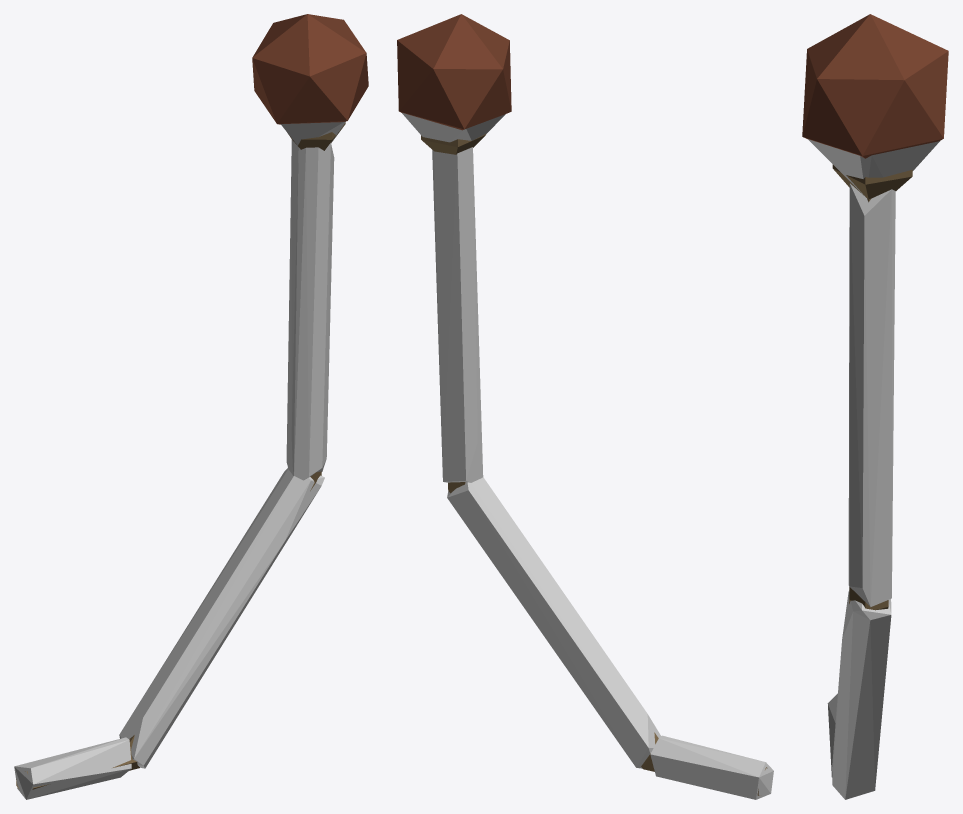
The model's file is SM_Bld_Planetarium_01_ring01_Planet_02_1.fbx.
3 views of the same model, side by side, from view 1: azimuth 30°, elevation 25°; view 2: azimuth 150°, elevation 25°; view 3: azimuth 270°, elevation 25° (orthographic). The views are drawn at different scales.
Parts seen in each view (by area): view 1: SM_Bld_Planetarium_01_ring01_Planet_02_1_ConvexHulls, SM_Bld_Planetarium_01_ring01_Planet_02_1; view 2: SM_Bld_Planetarium_01_ring01_Planet_02_1_ConvexHulls, SM_Bld_Planetarium_01_ring01_Planet_02_1; view 3: SM_Bld_Planetarium_01_ring01_Planet_02_1_ConvexHulls, SM_Bld_Planetarium_01_ring01_Planet_02_1.
Part boxes in pixels (bbox=[...]): SM_Bld_Planetarium_01_ring01_Planet_02_1_ConvexHulls: bbox=[14, 121, 345, 799]; SM_Bld_Planetarium_01_ring01_Planet_02_1: bbox=[16, 14, 368, 789]; SM_Bld_Planetarium_01_ring01_Planet_02_1_ConvexHulls: bbox=[402, 113, 773, 799]; SM_Bld_Planetarium_01_ring01_Planet_02_1: bbox=[397, 14, 767, 795]; SM_Bld_Planetarium_01_ring01_Planet_02_1_ConvexHulls: bbox=[808, 139, 939, 799]; SM_Bld_Planetarium_01_ring01_Planet_02_1: bbox=[802, 14, 948, 610].
Size of the model in its own units: 33.61 by 9.59 by 64.69.
2 materials, 1 textured.
